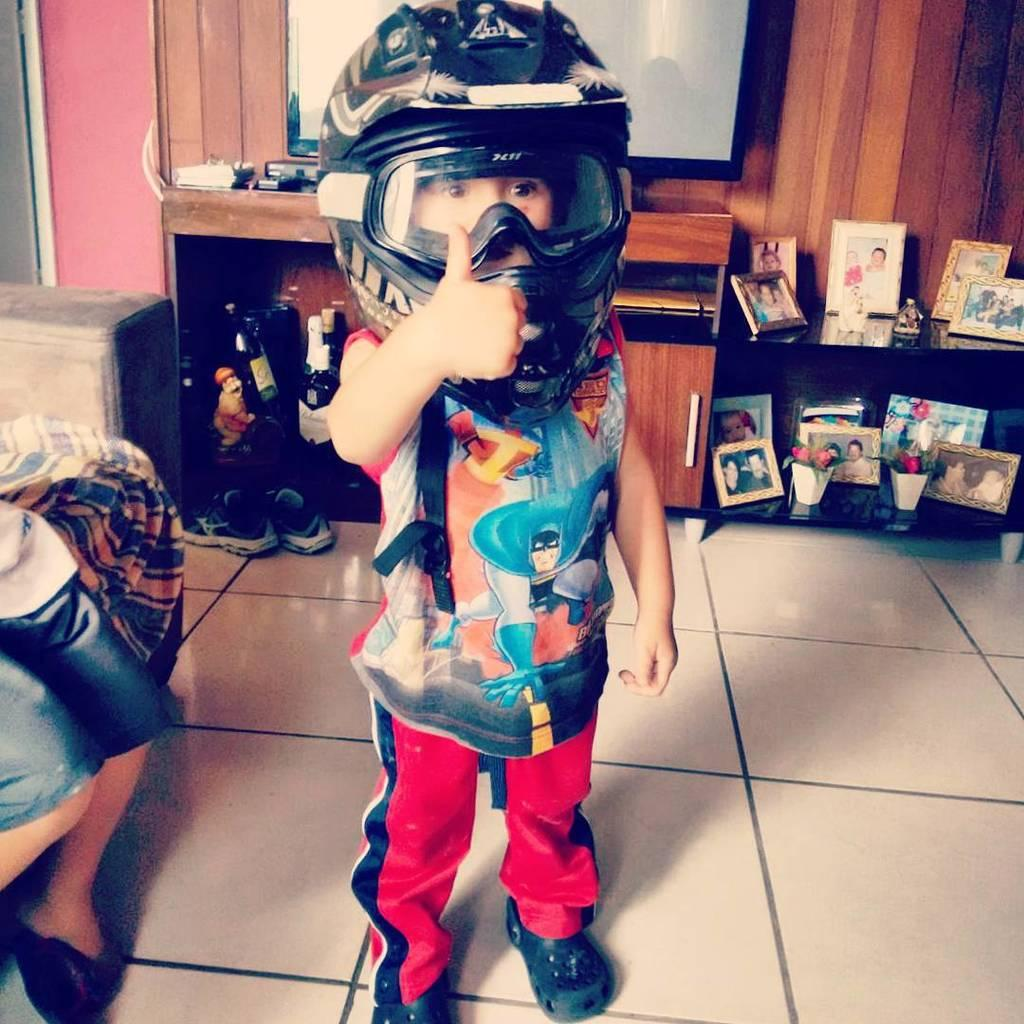helmet: (317, 0, 633, 431)
